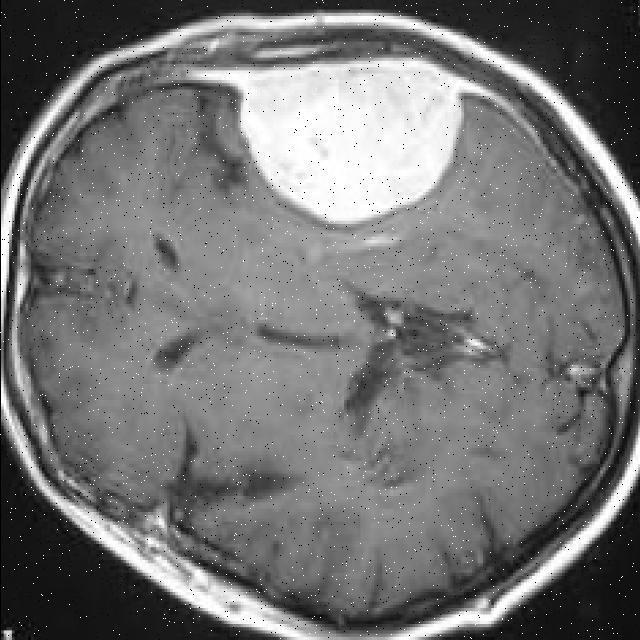Meningioma: (240, 60, 461, 222)
